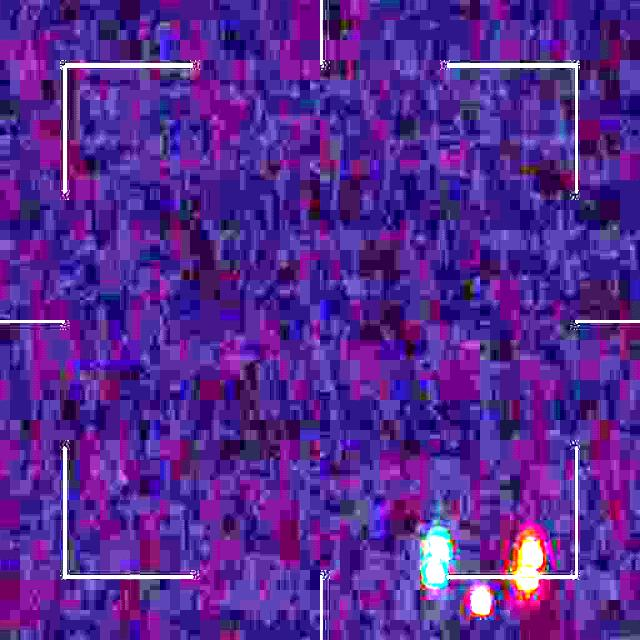bird: (424, 531, 542, 612)
